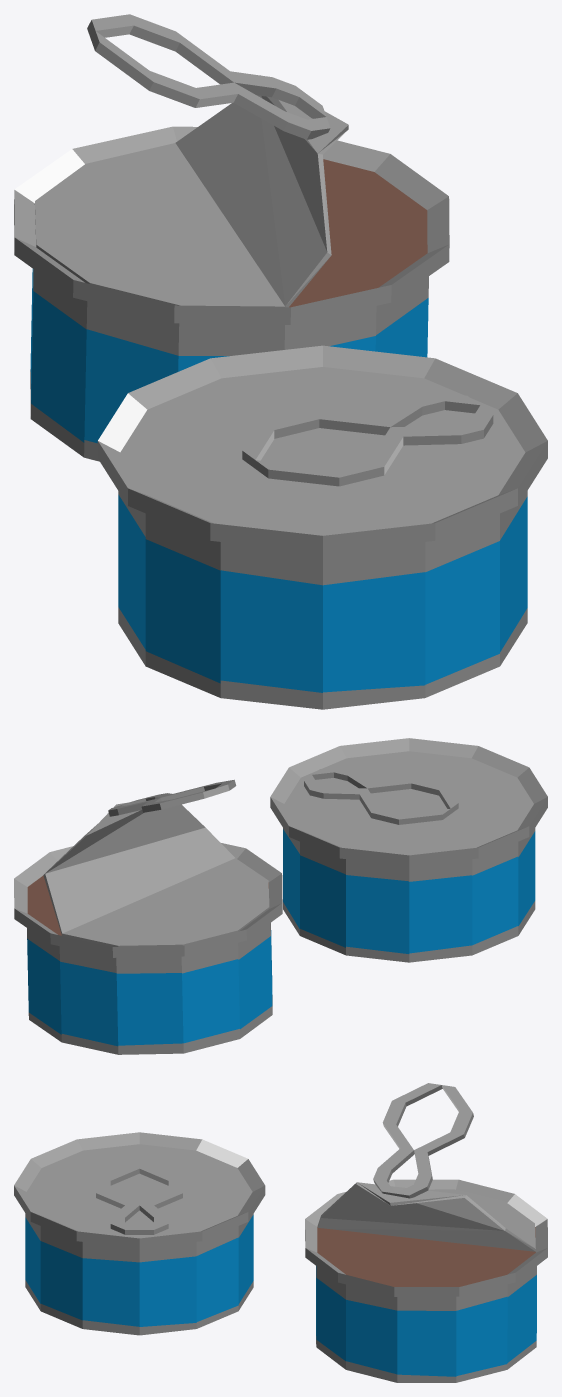
File: canFood.fbx
The picture shows the model from 3 angles, top to bottom: view 1: azimuth 30°, elevation 25°; view 2: azimuth 150°, elevation 25°; view 3: azimuth 270°, elevation 25°; orthographic projection. The views are drawn at different scales.
Visible parts, largest first — view 1: mesh_1343031588, mesh_165027230, mesh_558427750, mesh_1945423103, mesh_1010671563; view 2: mesh_1343031588, mesh_165027230, mesh_558427750, mesh_1945423103, mesh_1010671563; view 3: mesh_1343031588, mesh_165027230, mesh_558427750, mesh_1010671563, mesh_1945423103.
Part boxes in pixels (<box>): mesh_1343031588: <box>97,345,547,709</box>; mesh_165027230: <box>14,126,449,461</box>; mesh_558427750: <box>34,75,348,307</box>; mesh_1945423103: <box>242,391,493,486</box>; mesh_1010671563: <box>87,14,330,139</box>; mesh_1343031588: <box>270,738,547,962</box>; mesh_165027230: <box>14,843,282,1054</box>; mesh_558427750: <box>43,802,269,946</box>; mesh_1945423103: <box>304,766,458,824</box>; mesh_1010671563: <box>108,779,236,816</box>; mesh_1343031588: <box>14,1132,265,1335</box>; mesh_165027230: <box>305,1179,547,1382</box>; mesh_558427750: <box>317,1182,535,1251</box>; mesh_1010671563: <box>373,1083,473,1198</box>; mesh_1945423103: <box>96,1168,182,1234</box>.
Bounding box in the file's own units: 97.67 × 66.74 × 147.
